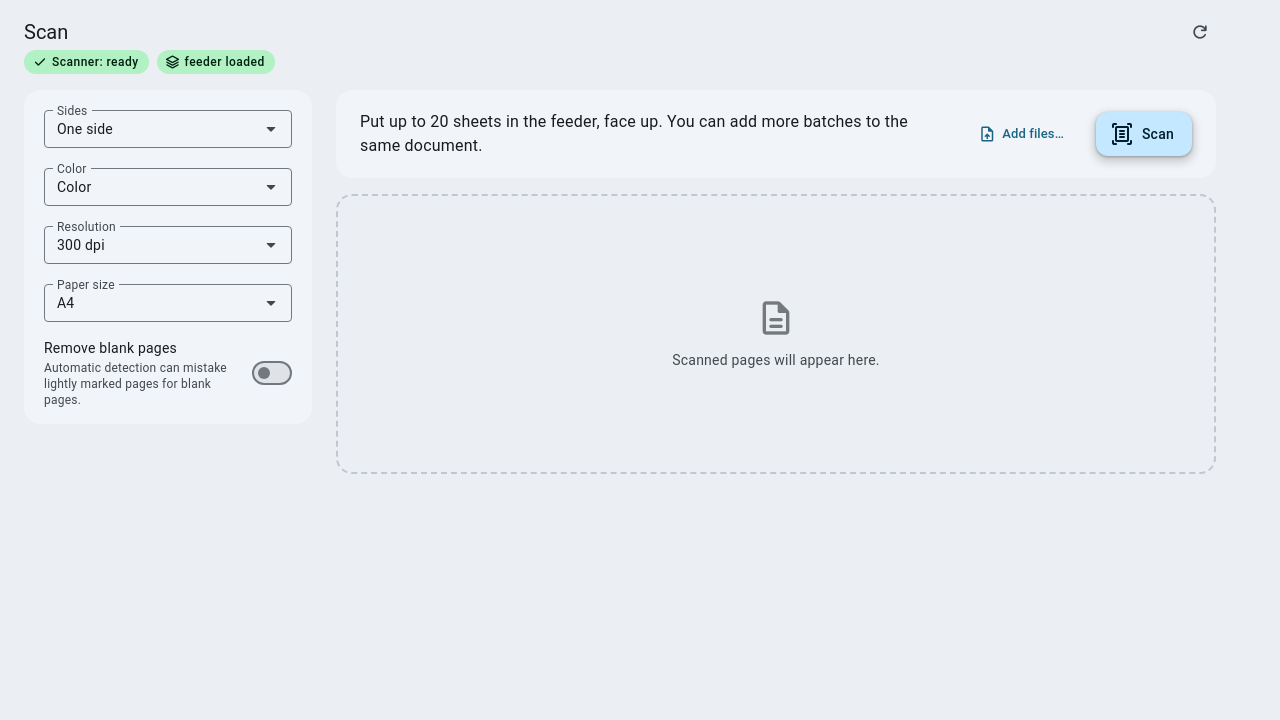
scanning documents › opens the guide from the information icon before scanning
Select "Both sides (manual flip)" in the dropdown labelled "Sides" at (168, 129), box [45,111,291,147]
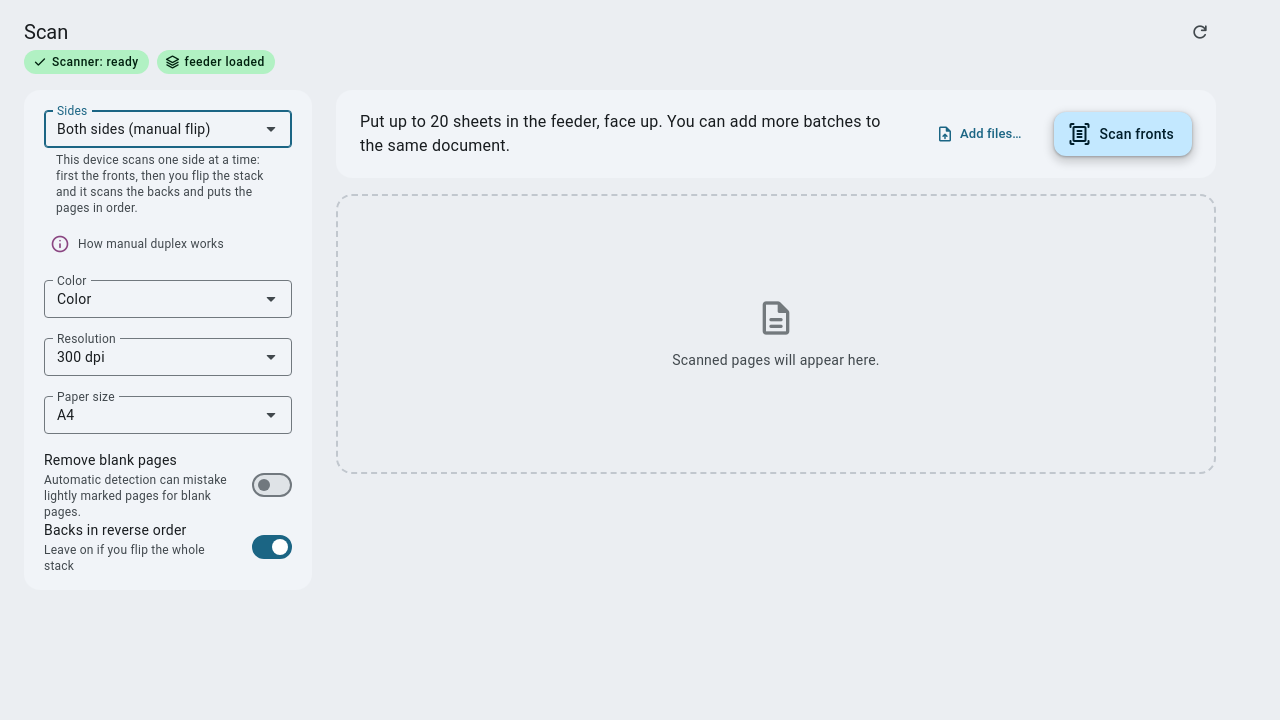
Click the button named "Show guide" at (60, 244), box [44,228,76,260]
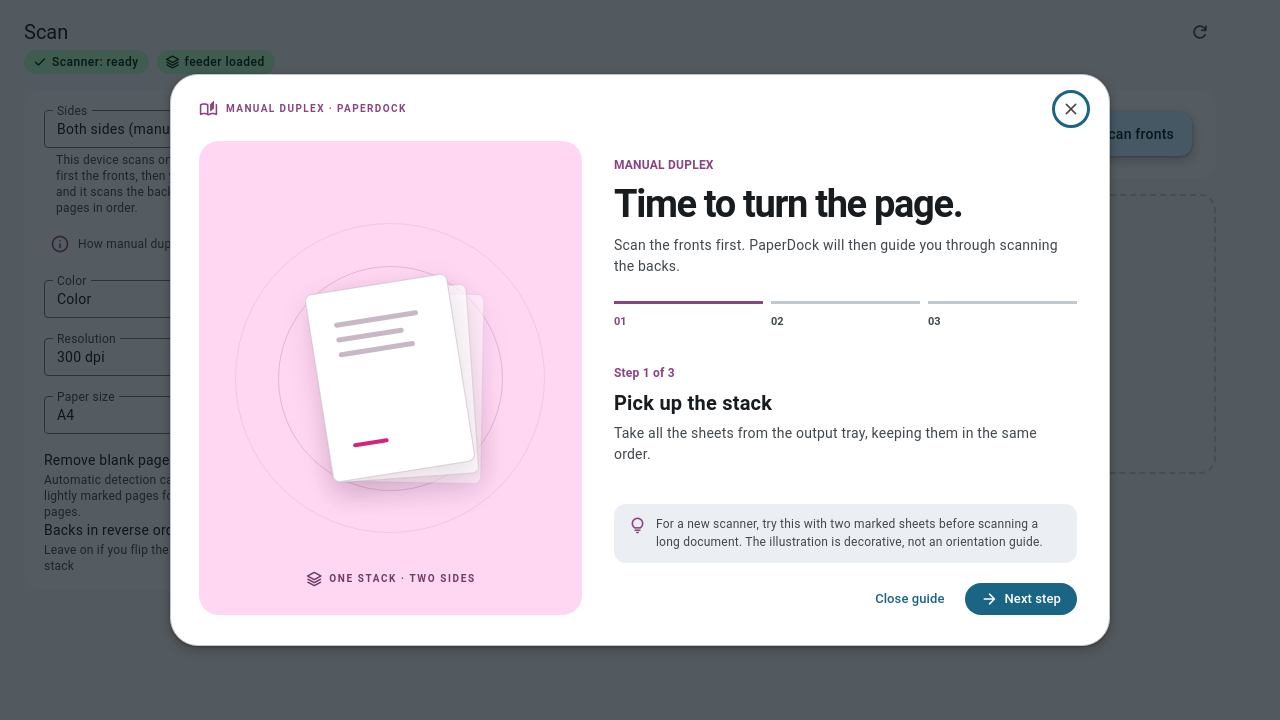
Now the text "Scan the fronts first" is shown, box [614,237,1058,274]
Now the heading "Pick up the stack" is shown, box [614,391,772,415]
Click the button "Next step" at (1021, 599), box [964,583,1077,615]
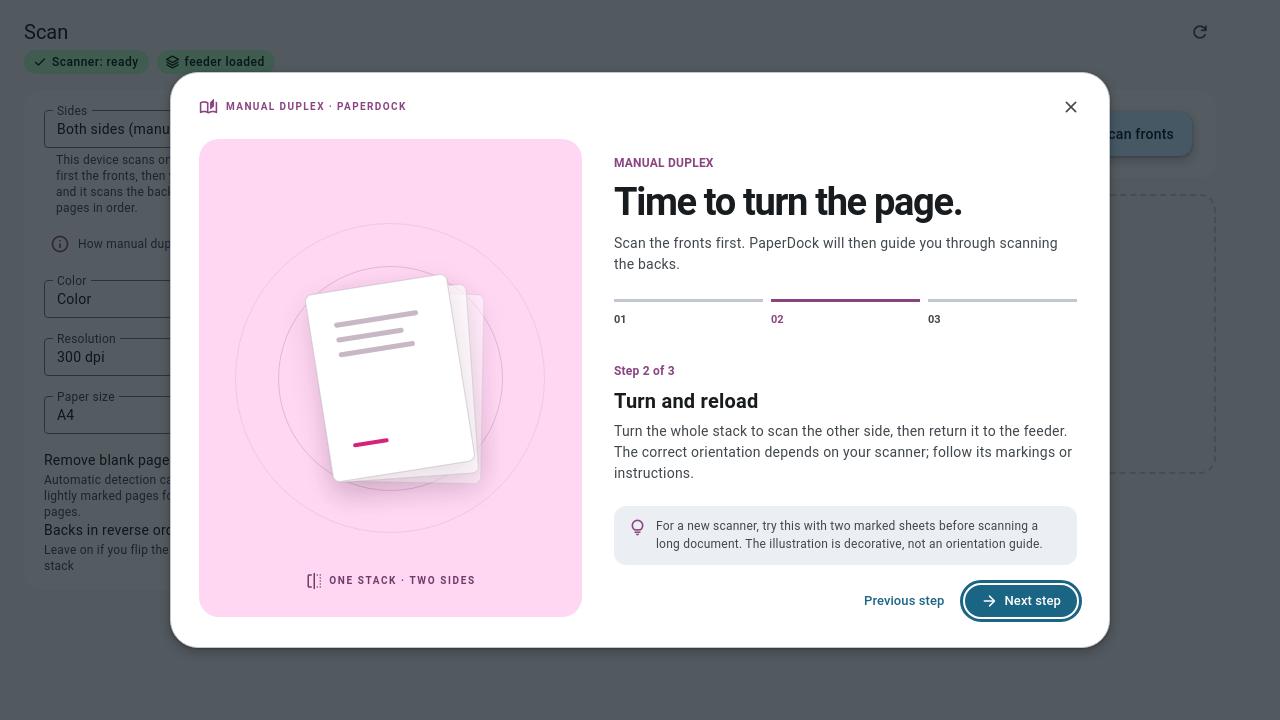
Now the heading "Turn and reload" is shown, box [614,389,758,413]
Click the button "Next step" at (1021, 601), box [964,585,1077,617]
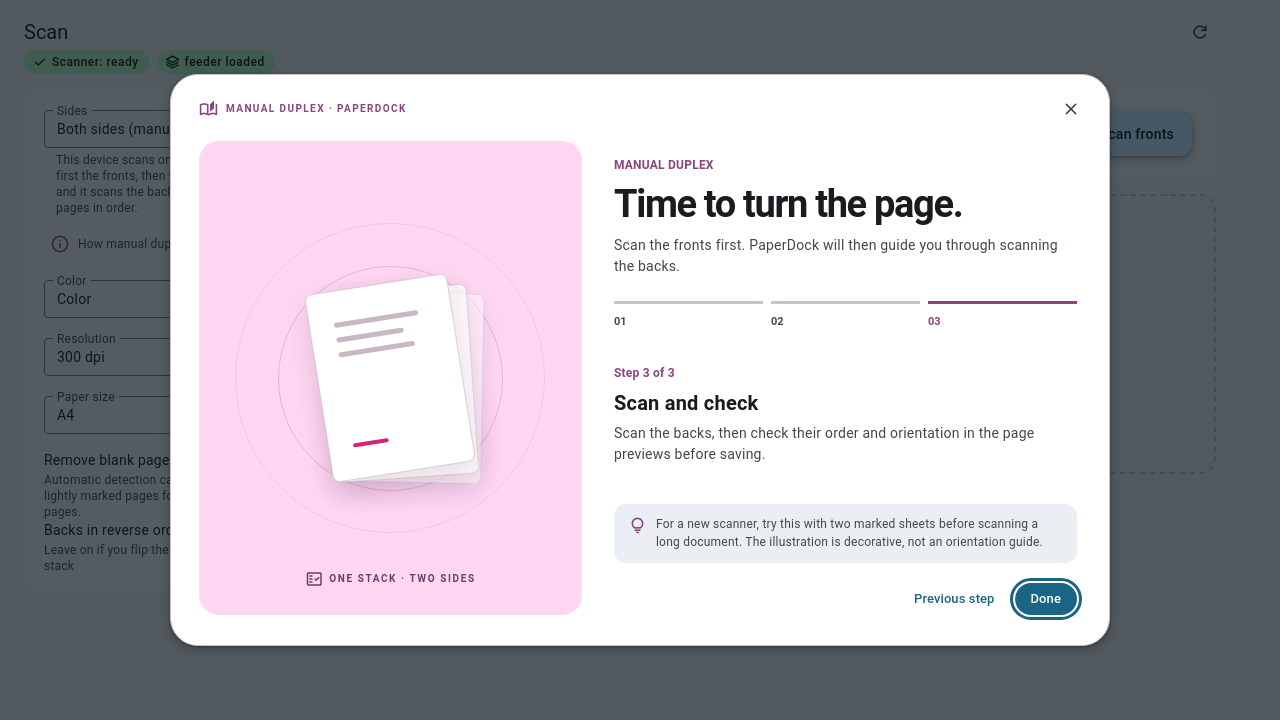
Now the heading "Scan and check" is shown, box [614,391,758,415]
